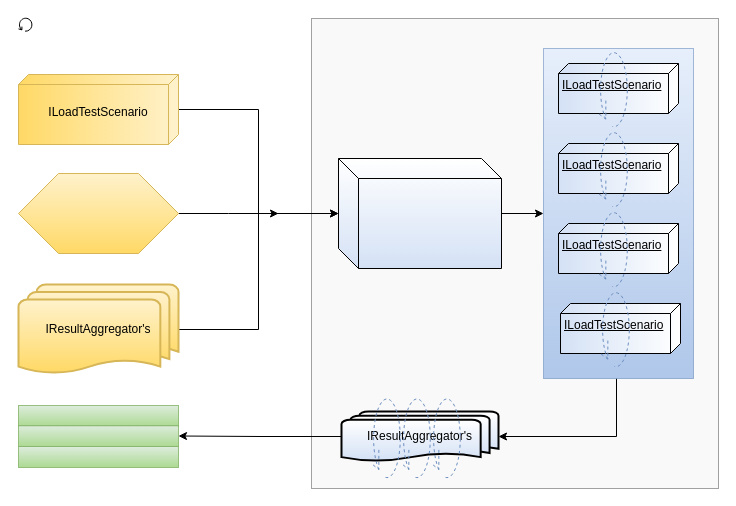
The diagram is 736 pixels wide and 506 high, and some of its shapes have lost their labels. Each missing label, with the centre of its shape:
LoadRunnerEngine: the point at 420,213
LoadRunnerParameters: the point at 98,213
Results: the point at 98,435
